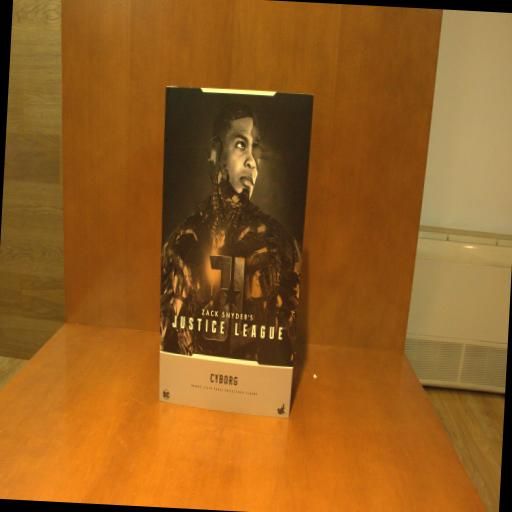Cyborg: (148, 84, 315, 421)
